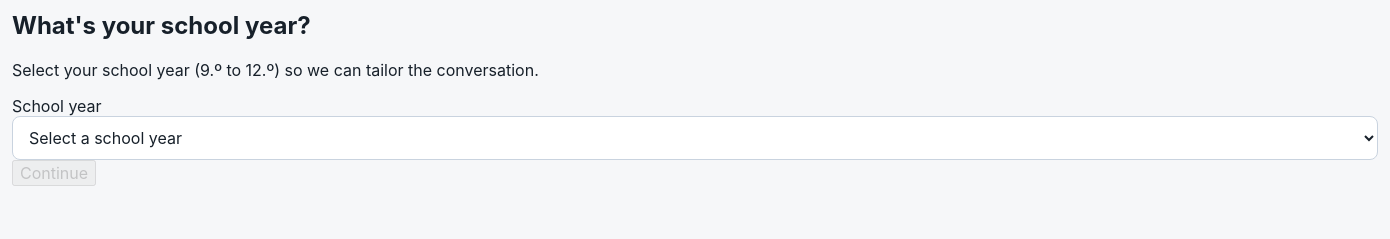
displays the backend's error message for an invalid school year and does not proceed
The image size is (1390, 239).
Select "9.º ano" in the dropdown labelled "School year". click: (695, 138)
box: [12,116,1378,160]
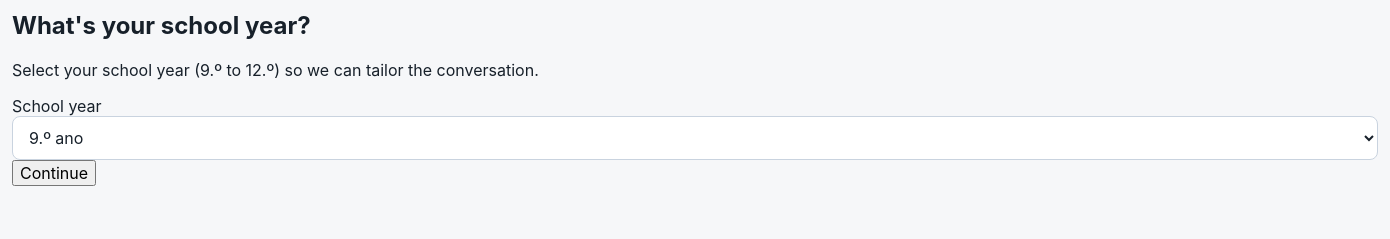
Click the button "Continue". click: (54, 173)
box: [12,160,96,186]
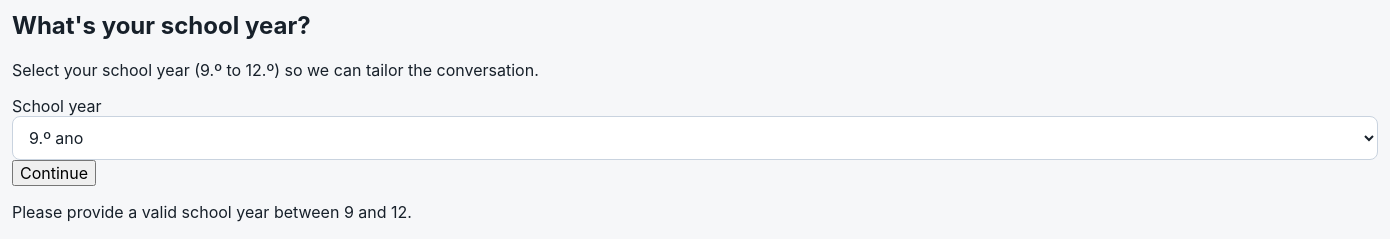
Result: the text "Please provide a valid school year between 9 and 12." is shown at [12,202,412,222]
